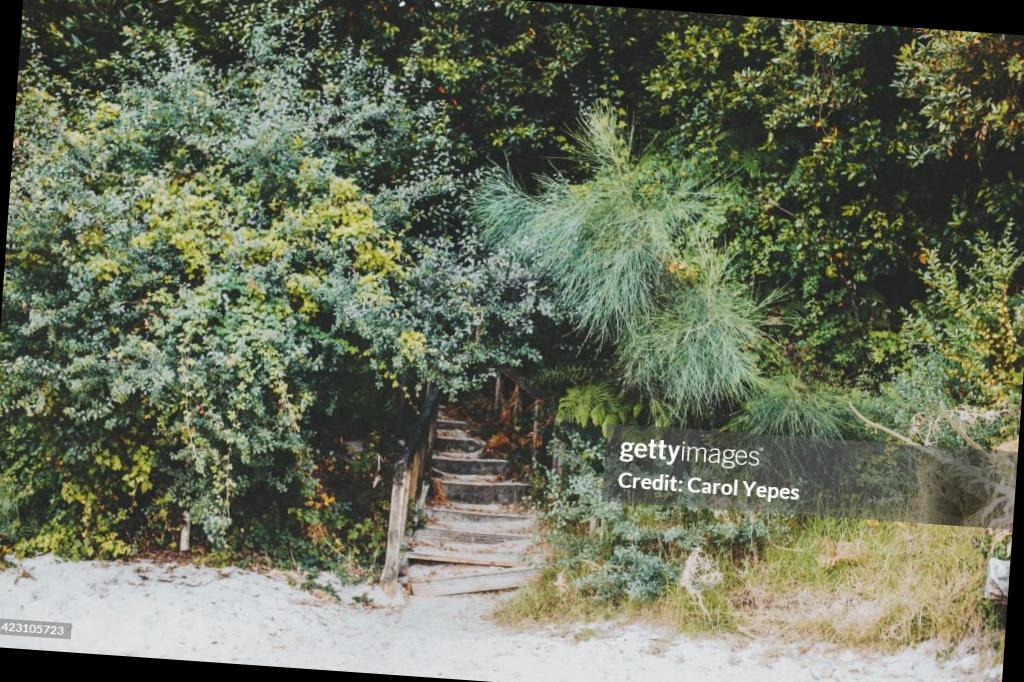overgrown grass: (614, 444, 1008, 638), (21, 423, 401, 552), (530, 421, 697, 596)
